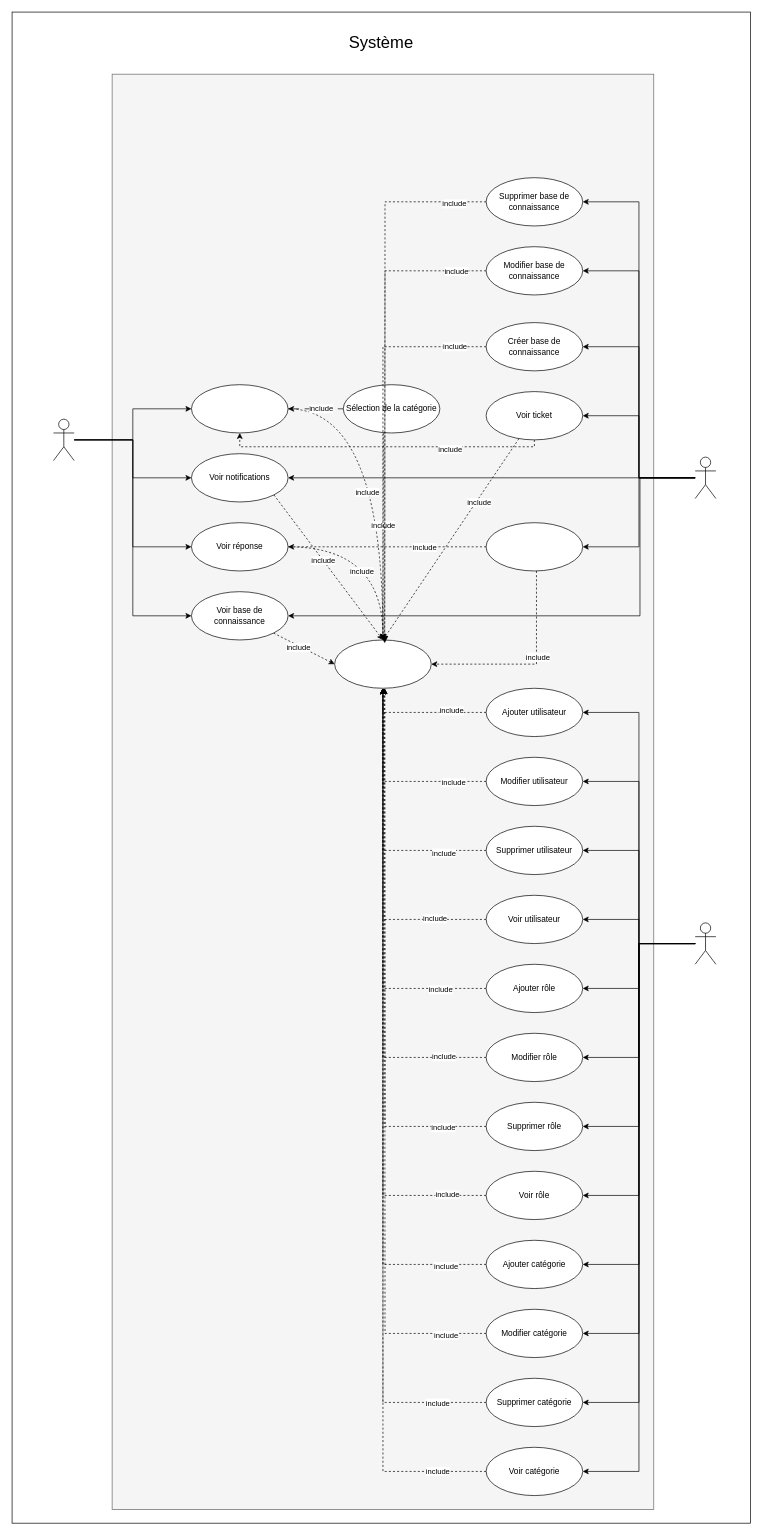
The diagram is 762 pixels wide and 1535 high, and some of its shapes have lost their labels. Each missing label, with the centre of its shape:
Administrateur: pixel 705 943
Apprenants: pixel 63 439
Authentification: pixel 382 663
Créer un ticket: pixel 239 408
Faire une réponse: pixel 534 546
Formateurs: pixel 705 477
